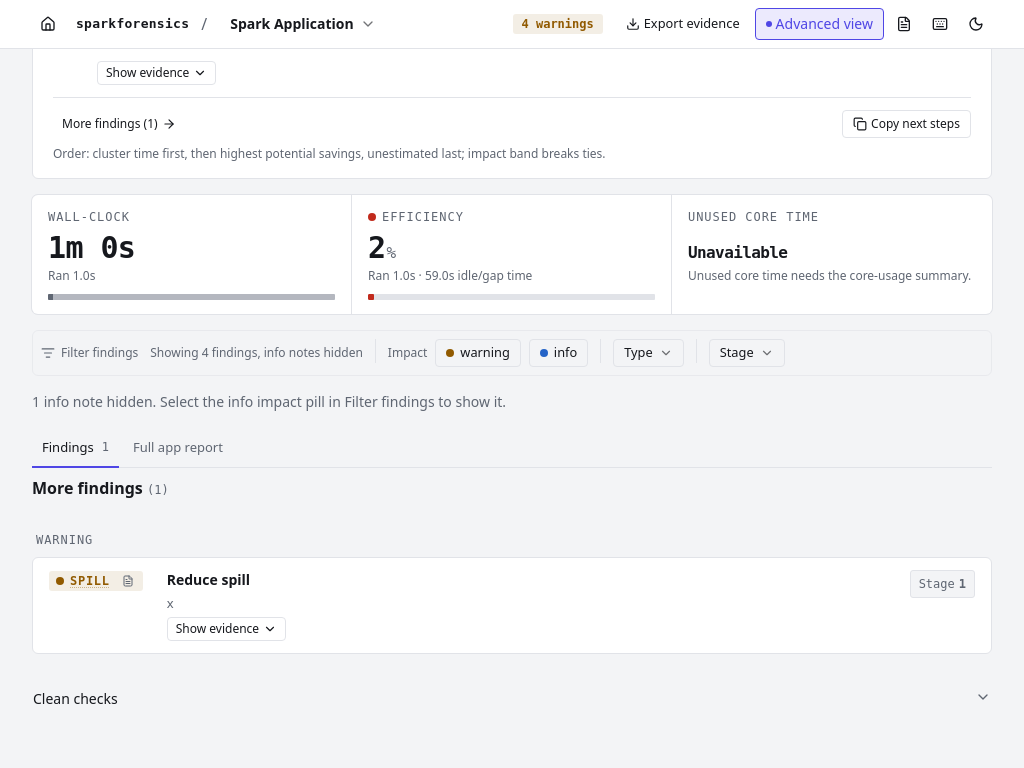
Test case: info findings are hidden until the impact filter names the info band, with their count and how to show them
(page scrolled)
Expected: the text "1 info note hidden. Select the info impact pill in Filter findings to show it." is shown, [32,392,506,411]
Click the button "Clean checks" at (75, 698), box [32,678,992,720]
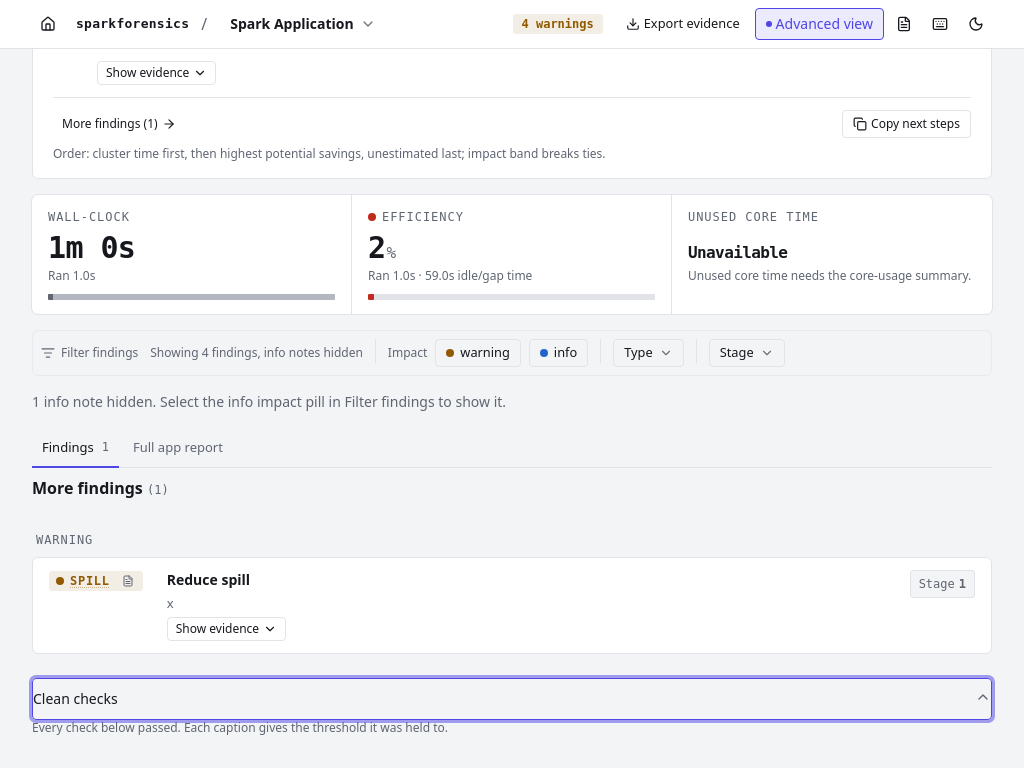
Click the button "info" at (559, 353), box [529,339,588,367]
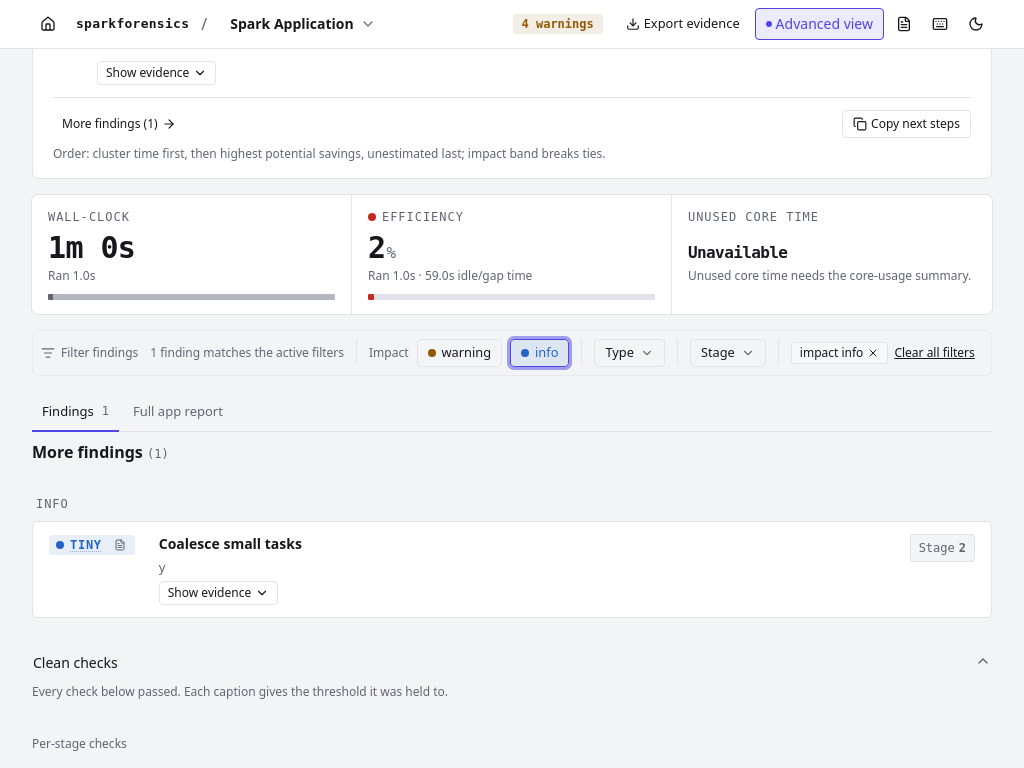
Result: the text "Showing 4 findings, info notes hidden" is gone
